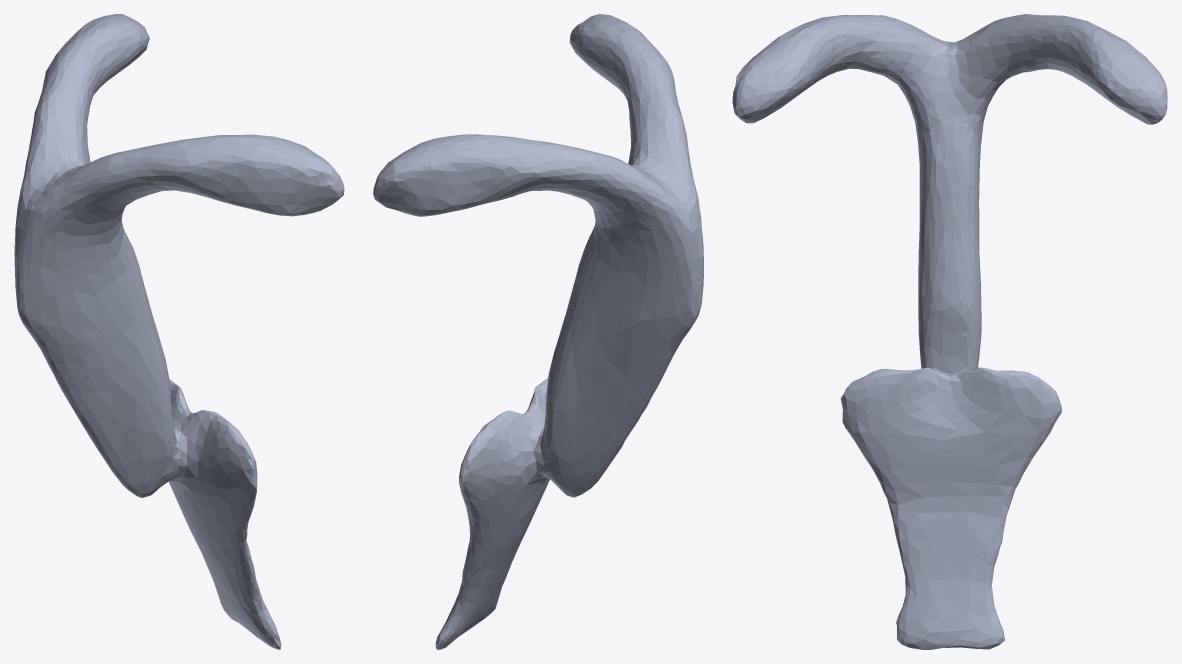
3 renders of one model, left to right at view 1: azimuth 30°, elevation 25°; view 2: azimuth 150°, elevation 25°; view 3: azimuth 270°, elevation 25°, orthographic.
Parts seen in each view (by area): view 1: 826.obj; view 2: 826.obj; view 3: 826.obj.
Boxes of the visible parts, x1,y1,x2,y2 form: 826.obj: [14, 14, 344, 649]; 826.obj: [373, 14, 703, 649]; 826.obj: [732, 14, 1167, 649].
Size of the model in its own units: 2002 by 4444 by 3049.
